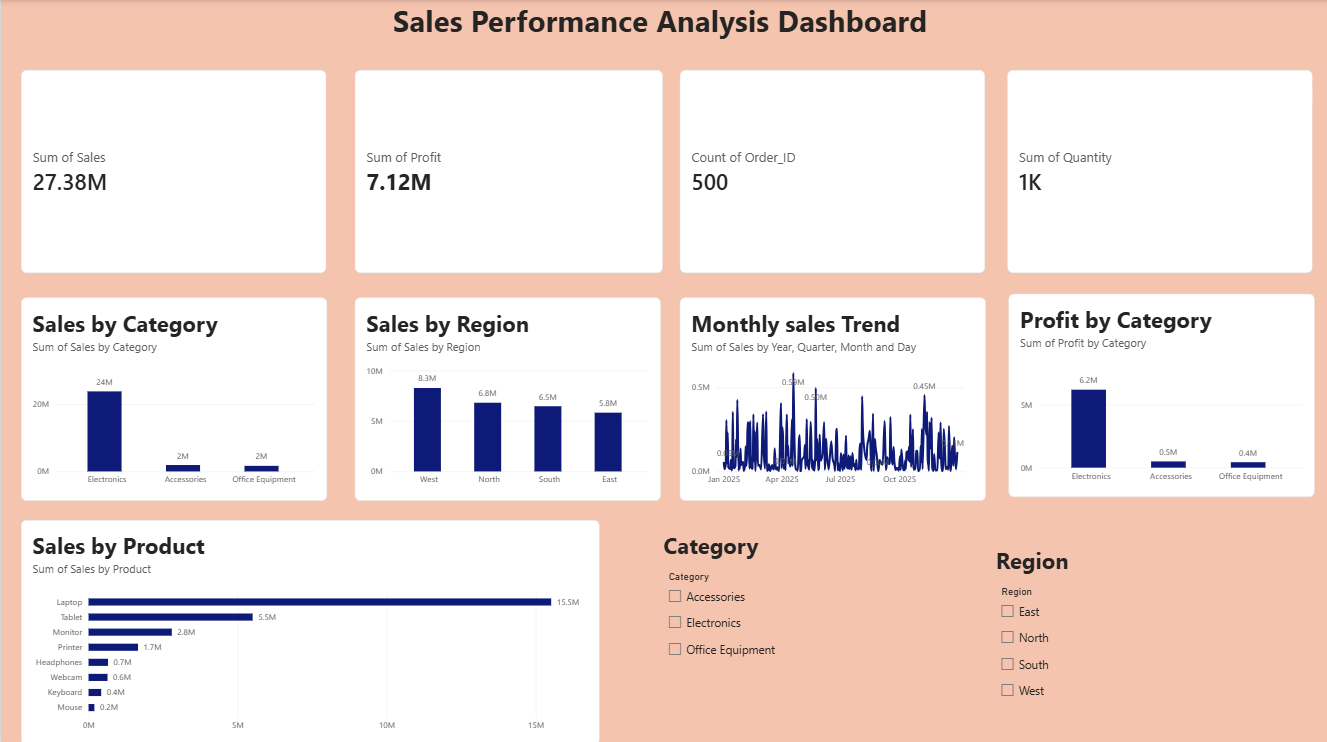

This screenshot's page, from the dashboard's own definition file:
{"tool":"powerbi","page":{"name":"Page 1","canvas":[1920,1080],"ordinal":0},"visuals":[{"type":"cardVisual","fields":{"Data":["Sum(sales_dashboard sales.Sales)"]},"box":[28.8,100.9,442.5,294.3],"z":0},{"type":"cardVisual","fields":{"Data":["Sum(sales_dashboard sales.Profit)"]},"box":[512.5,100.9,446.7,294.3],"z":1000},{"type":"cardVisual","fields":{"Data":["CountNonNull(sales_dashboard sales.Order_ID)"]},"box":[981.8,100.9,442.5,294.3],"z":2000},{"type":"cardVisual","fields":{"Data":["Sum(sales_dashboard sales.Quantity)"]},"box":[1457.3,100.9,442.5,294.3],"z":3000},{"type":"clusteredColumnChart","title":"Sales by Category","fields":{"Category":["sales_dashboard sales.Category"],"Y":["Sum(sales_dashboard sales.Sales)"]},"box":[28.8,430.2,443,294],"z":4000},{"type":"clusteredColumnChart","title":"Sales by Region","fields":{"Category":["sales_dashboard sales.Region"],"Y":["Sum(sales_dashboard sales.Sales)"]},"box":[512.5,430.2,443,294],"z":5000},{"type":"lineChart","title":"Monthly sales Trend","fields":{"Y":["Sum(sales_dashboard sales.Sales)"],"Category":["sales_dashboard sales.Order_Date.Variation.Date Hierarchy.Year","sales_dashboard sales.Order_Date.Variation.Date Hierarchy.Quarter","sales_dashboard sales.Order_Date.Variation.Date Hierarchy.Month","sales_dashboard sales.Order_Date.Variation.Date Hierarchy.Day"]},"box":[981.8,430.2,443,294],"z":6000},{"type":"clusteredColumnChart","title":"Profit by Category","fields":{"Category":["sales_dashboard sales.Category"],"Y":["Sum(sales_dashboard sales.Profit)"]},"box":[1459.4,426.1,443,294],"z":7000},{"type":"clusteredBarChart","title":" Sales by Product","fields":{"Category":["sales_dashboard sales.Product"],"Y":["Sum(sales_dashboard sales.Sales)"]},"box":[28.8,753.3,837.7,327.3],"z":8000},{"type":"slicer","title":"Category","fields":{"Values":["sales_dashboard sales.Category"]},"box":[959.2,767.8,444.6,298.5],"z":9000},{"type":"slicer","title":"Region","fields":{"Values":["sales_dashboard sales.Region"]},"box":[1440.8,788.3,442.5,259.3],"z":10000},{"type":"textbox","box":[0,0,1920.4,100.9],"z":11000}]}

Visuals, with their boxes in screenshot pixels (x1, y1, x2, y2), scaled from the page's 1920x1080 canvas onto the 1327x742 screenshot:
cardVisual - Sum(sales_dashboard sales.Sales): box=[20, 69, 326, 272]
cardVisual - Sum(sales_dashboard sales.Profit): box=[354, 69, 663, 272]
cardVisual - CountNonNull(sales_dashboard sales.Order_ID): box=[679, 69, 984, 272]
cardVisual - Sum(sales_dashboard sales.Quantity): box=[1007, 69, 1313, 272]
"Sales by Category" clusteredColumnChart: box=[20, 296, 326, 498]
"Sales by Region" clusteredColumnChart: box=[354, 296, 660, 498]
"Monthly sales Trend" lineChart: box=[679, 296, 985, 498]
"Profit by Category" clusteredColumnChart: box=[1009, 293, 1315, 495]
" Sales by Product" clusteredBarChart: box=[20, 518, 599, 741]
"Category" slicer: box=[663, 528, 970, 733]
"Region" slicer: box=[996, 542, 1302, 720]
textbox: box=[0, 0, 1326, 69]
